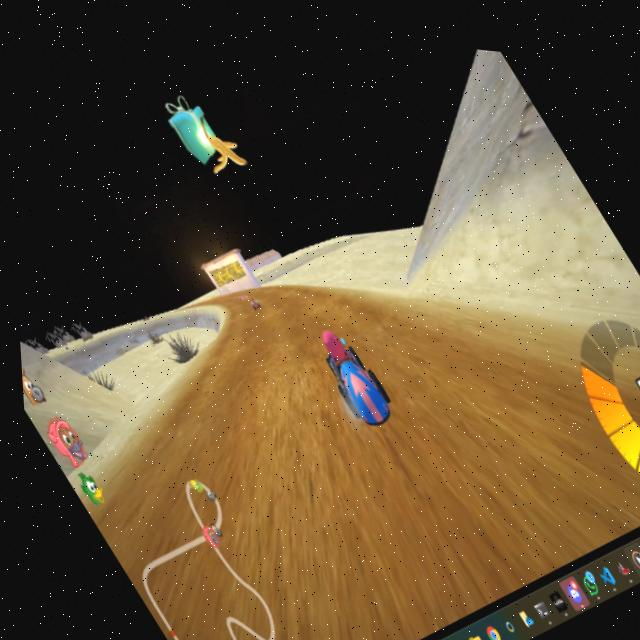enemy_kart: (237, 283, 262, 310)
off_track: (275, 182, 421, 303), (78, 292, 217, 409)
player_kart: (294, 305, 408, 443)
track: (183, 296, 443, 633)
